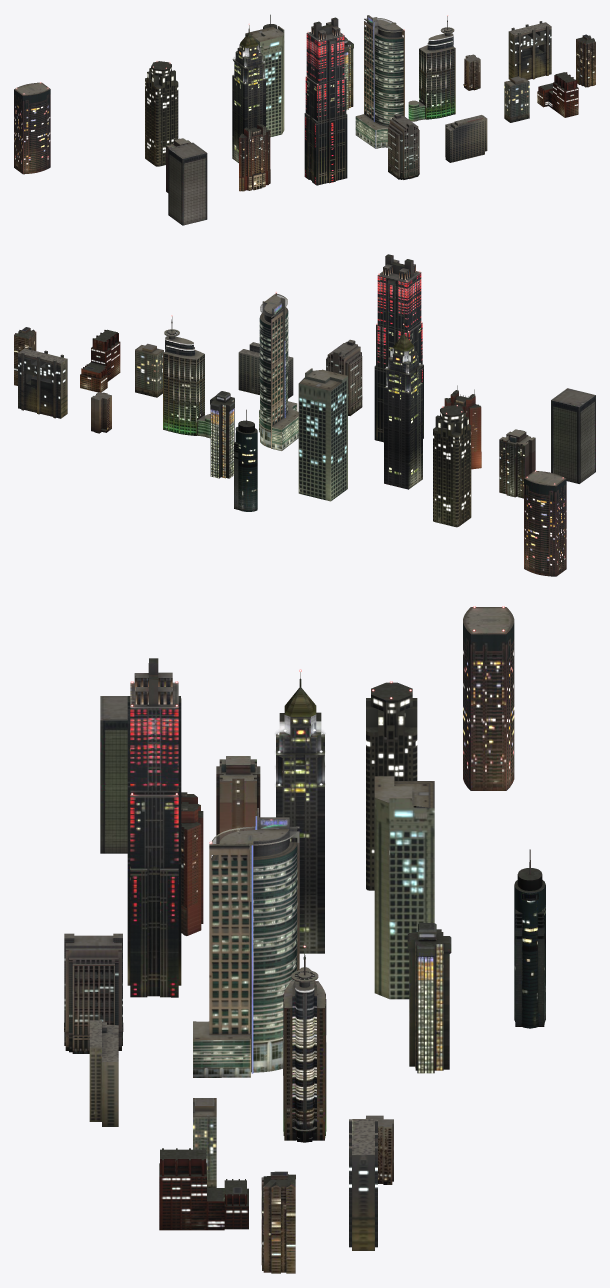
Rendered from seoul_pack.glb.
The picture shows the model from 3 angles, top to bottom: view 1: azimuth 30°, elevation 25°; view 2: azimuth 150°, elevation 25°; view 3: azimuth 270°, elevation 25°; orthographic projection. The views are drawn at different scales.
Visible parts, largest first — view 1: BACKGROUND_BUILDINGS_1.009, BACKGROUND_BUILDING_2, BACKGROUND_BUILDINGS_1, BACKGROUND_BUILDINGS_1.007, BACKGROUND_BUILDING_2.008, BACKGROUND_BUILDINGS_1.008, BACKGROUND_BUILDINGS_1.002, BACKGROUND_BUILDING_2.007, BACKGROUND_BUILDING_2.005, BACKGROUND_BUILDINGS_1.004, BACKGROUND_BUILDING_2.001, BACKGROUND_BUILDING_2.002 (+5 smaller); view 2: BACKGROUND_BUILDING_2.007, BACKGROUND_BUILDINGS_1.008, BACKGROUND_BUILDINGS_1.009, BACKGROUND_BUILDING_2, BACKGROUND_BUILDING_2.008, BACKGROUND_BUILDINGS_1.007, BACKGROUND_BUILDINGS_1, BACKGROUND_BUILDINGS_1.002, BACKGROUND_BUILDING_2.005, BACKGROUND_BUILDINGS_1.001, BACKGROUND_BUILDINGS_1.003, BACKGROUND_BUILDINGS_1.006 (+7 smaller); view 3: BACKGROUND_BUILDING_2, BACKGROUND_BUILDINGS_1.009, BACKGROUND_BUILDING_2.007, BACKGROUND_BUILDINGS_1.007, BACKGROUND_BUILDINGS_1.008, BACKGROUND_BUILDINGS_1, BACKGROUND_BUILDING_2.001, BACKGROUND_BUILDINGS_1.006, BACKGROUND_BUILDING_2.004, BACKGROUND_BUILDING_2.008, BACKGROUND_BUILDINGS_1.001, BACKGROUND_BUILDINGS_1.002 (+7 smaller).
Boxes of the visible parts, x1,y1,x2,y2 form: BACKGROUND_BUILDINGS_1.009: (304, 17, 347, 185); BACKGROUND_BUILDING_2: (355, 15, 404, 148); BACKGROUND_BUILDINGS_1: (408, 16, 455, 121); BACKGROUND_BUILDINGS_1.007: (14, 82, 50, 174); BACKGROUND_BUILDING_2.008: (145, 61, 178, 166); BACKGROUND_BUILDINGS_1.008: (232, 25, 265, 162); BACKGROUND_BUILDINGS_1.002: (168, 142, 207, 225); BACKGROUND_BUILDING_2.007: (245, 26, 284, 137); BACKGROUND_BUILDING_2.005: (508, 21, 551, 80); BACKGROUND_BUILDINGS_1.004: (239, 124, 270, 191); BACKGROUND_BUILDING_2.001: (388, 113, 419, 179); BACKGROUND_BUILDING_2.002: (445, 115, 487, 162); BACKGROUND_BUILDING_2.007: (298, 368, 347, 501); BACKGROUND_BUILDINGS_1.008: (384, 325, 422, 489); BACKGROUND_BUILDINGS_1.009: (374, 254, 423, 442); BACKGROUND_BUILDING_2: (259, 293, 298, 450); BACKGROUND_BUILDING_2.008: (433, 405, 471, 527); BACKGROUND_BUILDINGS_1.007: (524, 471, 566, 576); BACKGROUND_BUILDINGS_1: (163, 316, 210, 438); BACKGROUND_BUILDINGS_1.002: (551, 388, 595, 483); BACKGROUND_BUILDING_2.005: (18, 346, 67, 418); BACKGROUND_BUILDINGS_1.001: (234, 409, 257, 511); BACKGROUND_BUILDINGS_1.003: (499, 429, 535, 498); BACKGROUND_BUILDINGS_1.006: (210, 391, 234, 478); BACKGROUND_BUILDING_2: (193, 808, 299, 1077); BACKGROUND_BUILDINGS_1.009: (127, 658, 181, 997); BACKGROUND_BUILDING_2.007: (374, 776, 434, 999); BACKGROUND_BUILDINGS_1.007: (463, 607, 514, 790); BACKGROUND_BUILDINGS_1.008: (276, 672, 324, 953); BACKGROUND_BUILDINGS_1: (283, 947, 326, 1142); BACKGROUND_BUILDING_2.001: (64, 933, 123, 1053); BACKGROUND_BUILDINGS_1.006: (407, 923, 451, 1073); BACKGROUND_BUILDING_2.004: (159, 1148, 248, 1230); BACKGROUND_BUILDING_2.008: (366, 682, 417, 890); BACKGROUND_BUILDINGS_1.001: (514, 849, 545, 1028); BACKGROUND_BUILDINGS_1.002: (100, 696, 127, 853).
Size of the model in its own units: 1049 by 301 by 419.
Materials: 4 (4 with a texture image).
